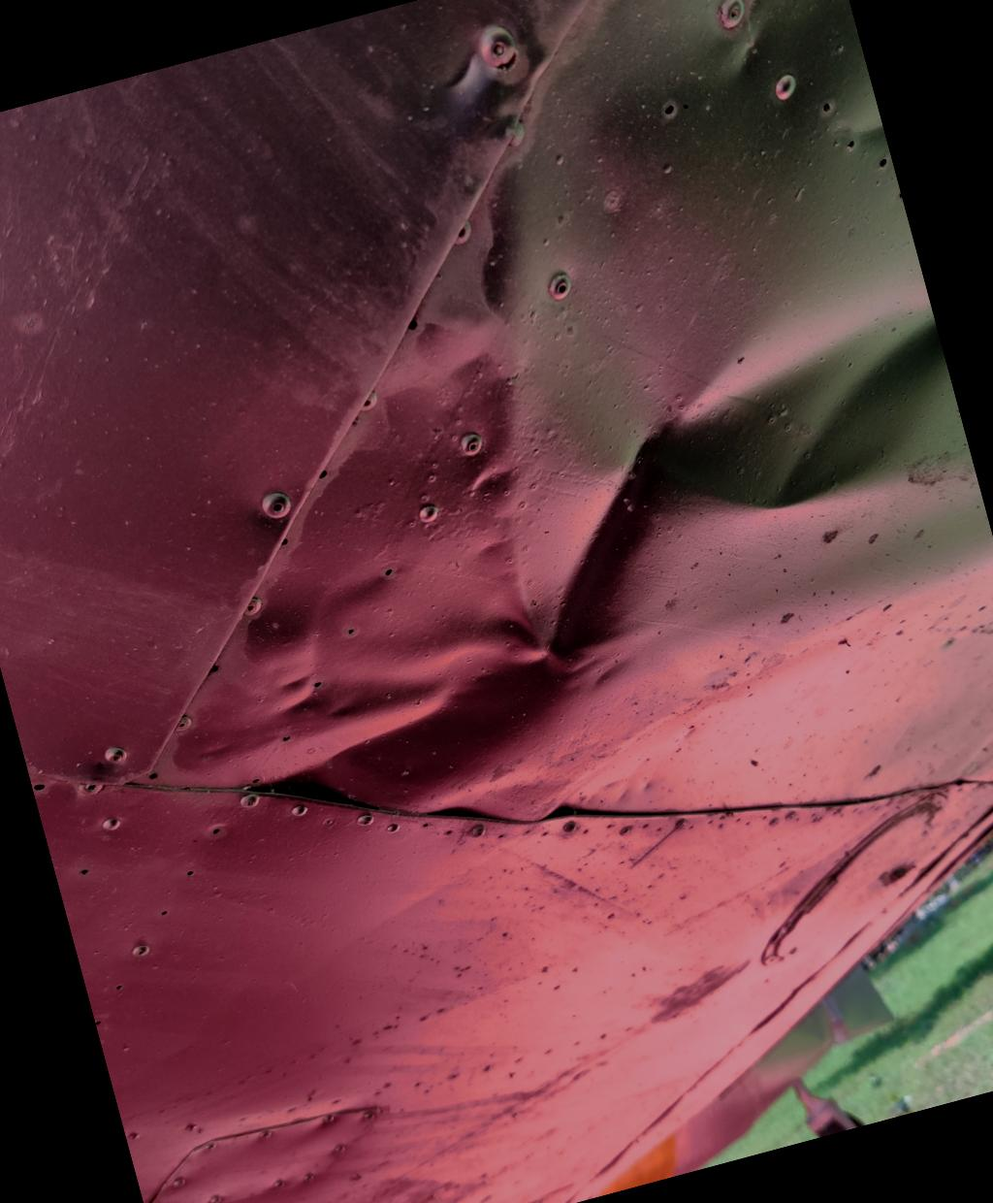dent: (36, 75, 993, 938)
